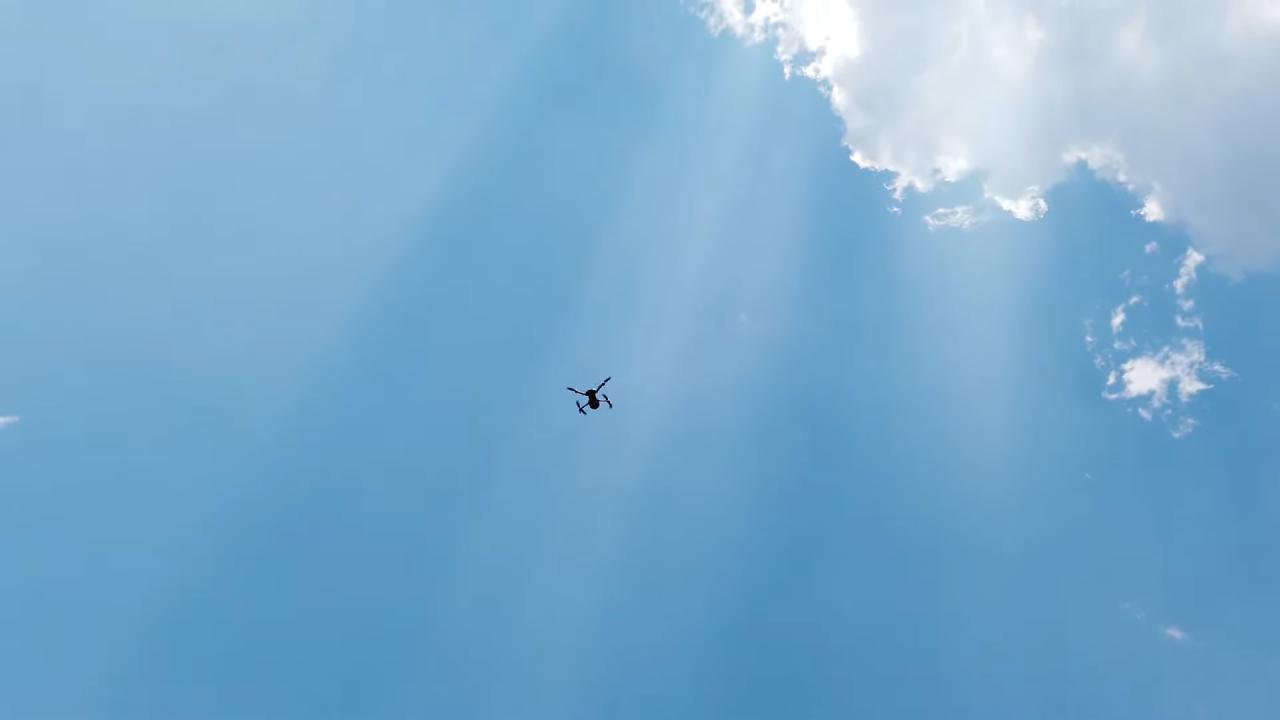Drone: (561, 370, 627, 424)
